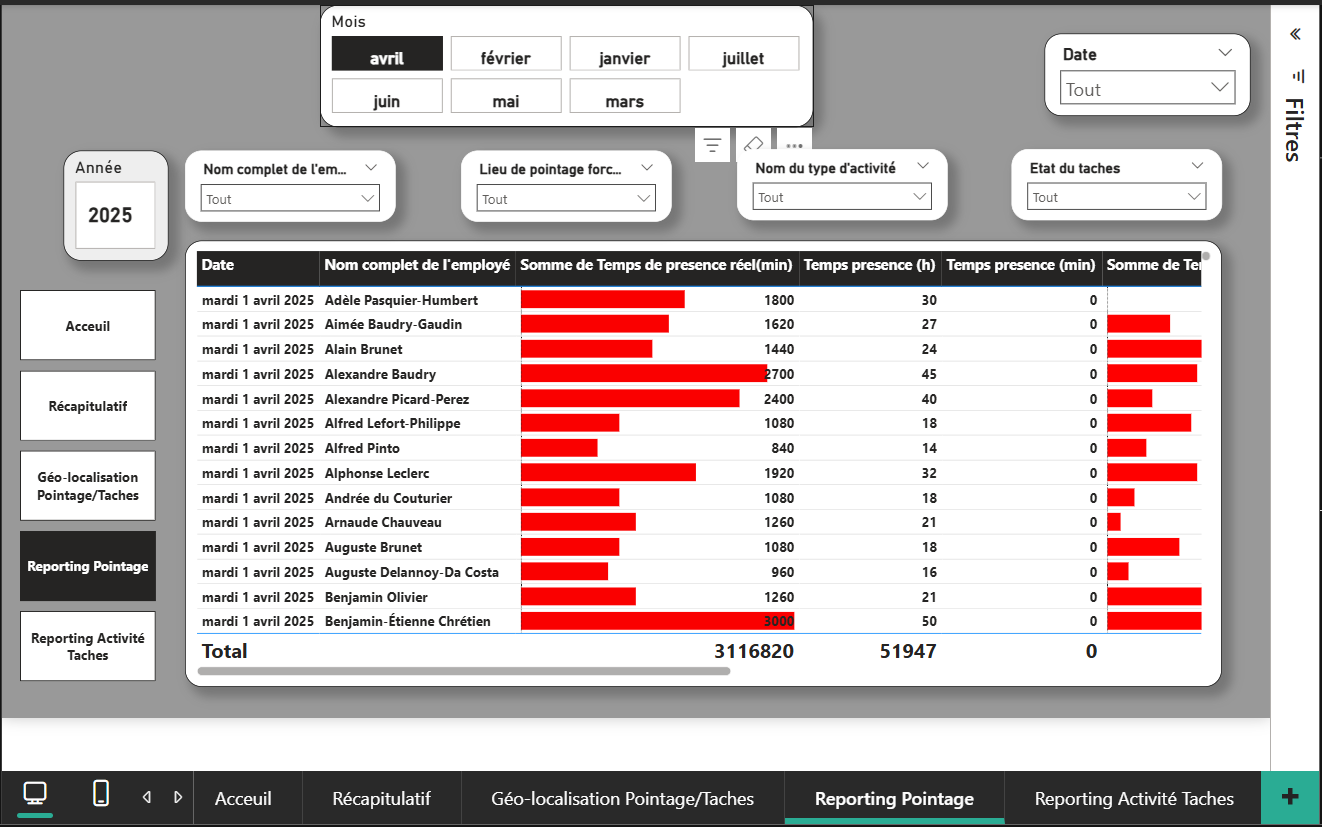

What the dashboard file says about the page in this screenshot:
{"tool":"powerbi","page":{"name":"Reporting Pointage","canvas":[1280,720],"ordinal":3},"visuals":[{"type":"advancedSlicerVisual","fields":{"Values":["TableDate.Mois"]},"box":[321.7,0,497.7,123],"z":0},{"type":"slicer","fields":{"Values":["TableDate.Date"]},"box":[1052.3,28.4,208.2,83.3],"z":1000},{"type":"advancedSlicerVisual","fields":{"Values":["TableDate.Année"]},"box":[62.5,147.6,106,111.7],"z":2000},{"type":"tableEx","fields":{"Values":["TableDate.Date","Sheet1.Nom complet de l'employé","Sum(Sheet1.Temps de presence réel(min))","Mesures.Temps presence (h)","Mesures.Temps presence (min)","Sum(Sheet1.Temps de retard(min))","Mesures.Temps retad (h)","Mesures.Temps retad (min)","Sum(Sheet1.Temps de pause(min))","Mesures.Temps pause (h)","Mesures.Temps pause (min)"]},"box":[185.3,238.1,1046.5,450.5],"z":3000},{"type":"slicer","fields":{"Values":["Sheet1.Nom complet de l'employé"]},"box":[185.3,147,212.5,71.9],"z":4000},{"type":"slicer","fields":{"Values":["Sheet1.Lieu de pointage forcé?"]},"box":[463.3,147,212.5,71.9],"z":5000},{"type":"slicer","fields":{"Values":["Sheet1.Nom du type d'activité"]},"box":[741.3,145.4,212.5,71.9],"z":6000},{"type":"slicer","fields":{"Values":["Sheet1.Etat du taches"]},"box":[1019.3,145.4,212.5,71.9],"z":7000},{"type":"pageNavigator","box":[17.6,287.6,137.4,397],"z":8000}]}

Visuals, with their boxes on the page's 1280x720 design canvas (x1, y1, x2, y2). These are canvas units, not pixel positions in the 1322x827 screenshot, which may show the page scaled, cropped or inside an application window:
advancedSlicerVisual - TableDate.Mois: pyautogui.locateOnScreen(322, 0, 819, 123)
slicer - TableDate.Date: pyautogui.locateOnScreen(1052, 28, 1260, 112)
advancedSlicerVisual - TableDate.Année: pyautogui.locateOnScreen(62, 148, 168, 259)
tableEx - TableDate.Date x Sheet1.Nom complet de l'employé: pyautogui.locateOnScreen(185, 238, 1232, 689)
slicer - Sheet1.Nom complet de l'employé: pyautogui.locateOnScreen(185, 147, 398, 219)
slicer - Sheet1.Lieu de pointage forcé?: pyautogui.locateOnScreen(463, 147, 676, 219)
slicer - Sheet1.Nom du type d'activité: pyautogui.locateOnScreen(741, 145, 954, 217)
slicer - Sheet1.Etat du taches: pyautogui.locateOnScreen(1019, 145, 1232, 217)
pageNavigator: pyautogui.locateOnScreen(18, 288, 155, 685)
